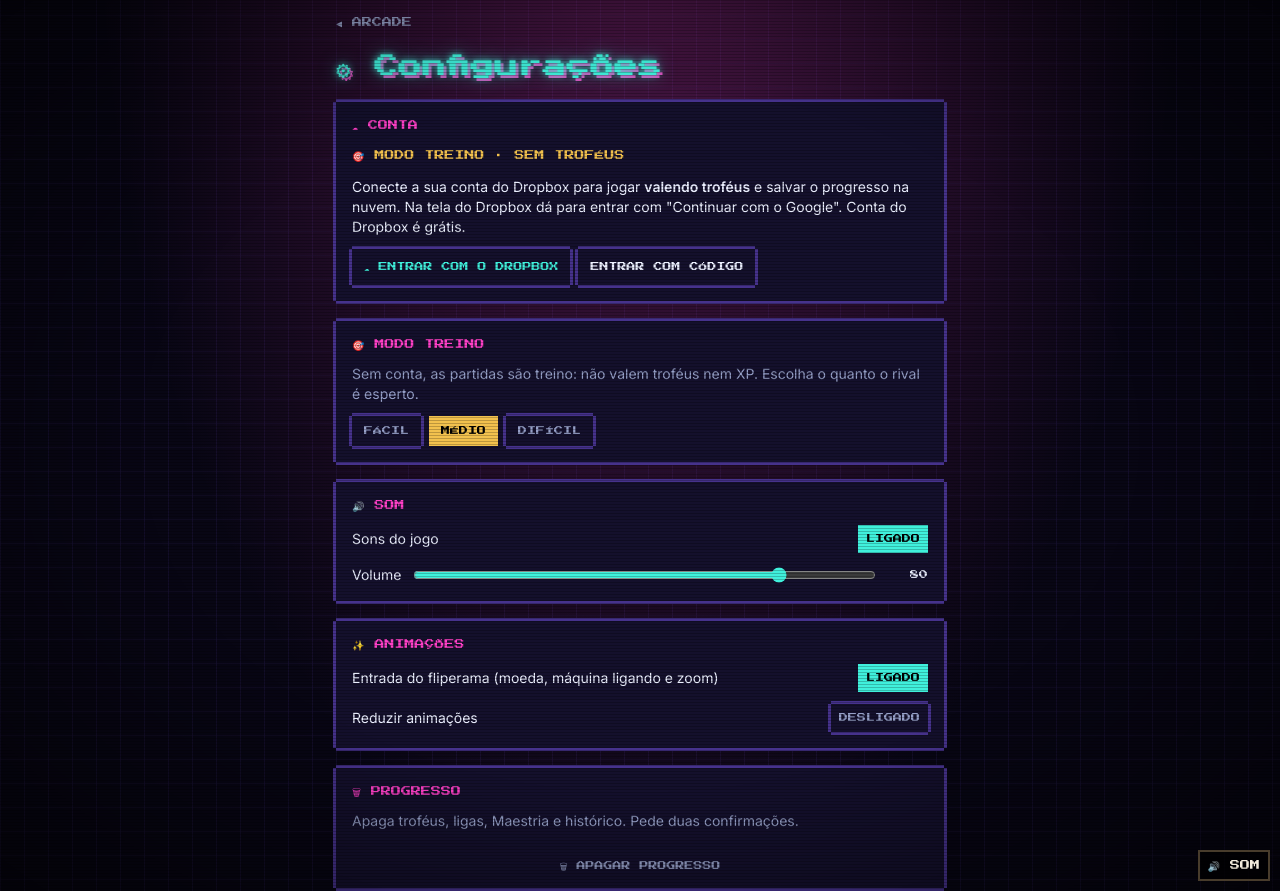
it: apagar progresso › pede duas confirmações e só apaga depois de digitar APAGAR
This screenshot has width=1280, height=891.
Click the button "🗑 APAGAR PROGRESSO" at (640, 865), box [559,858,720,872]
(page scrolled)
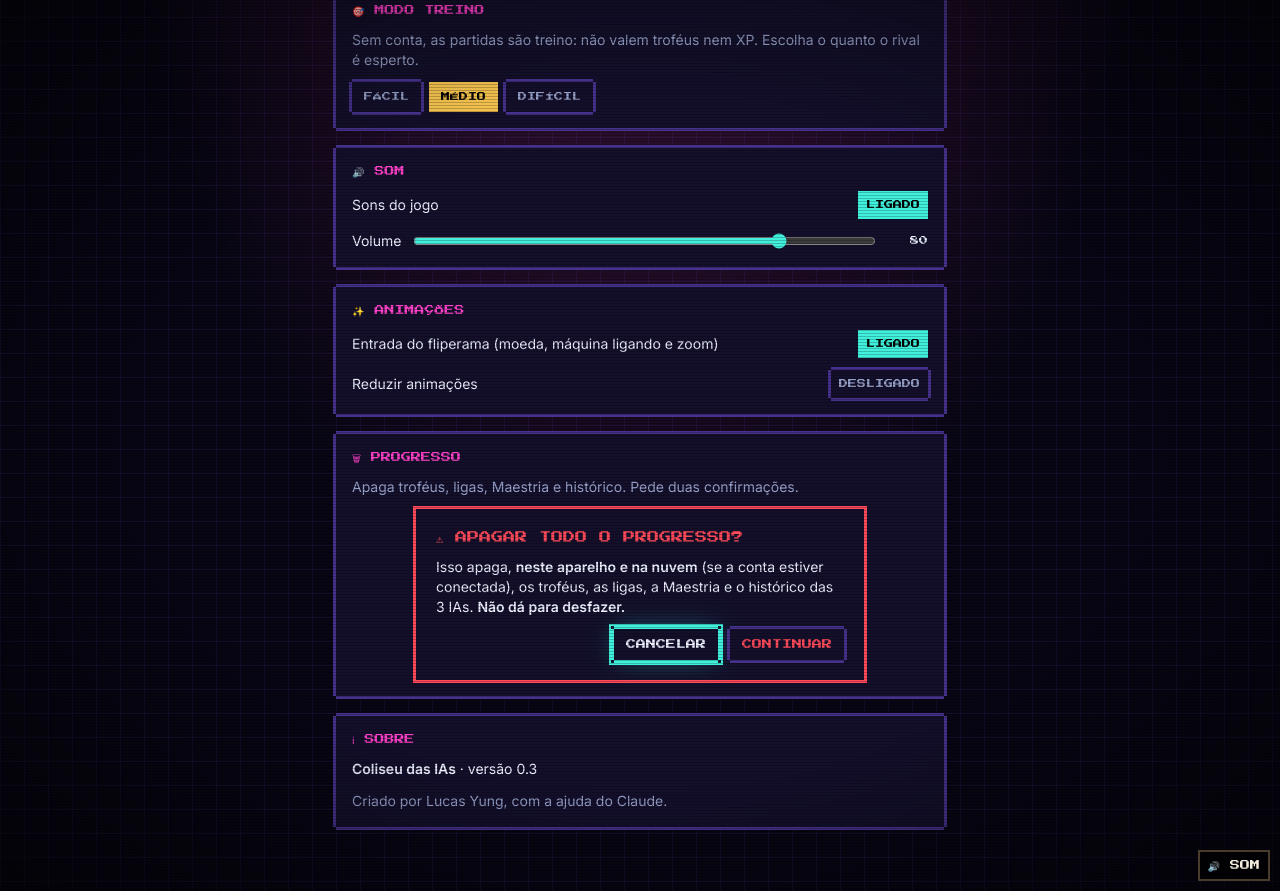
Click the button "CONTINUAR" at (787, 644), box [730,628,844,660]
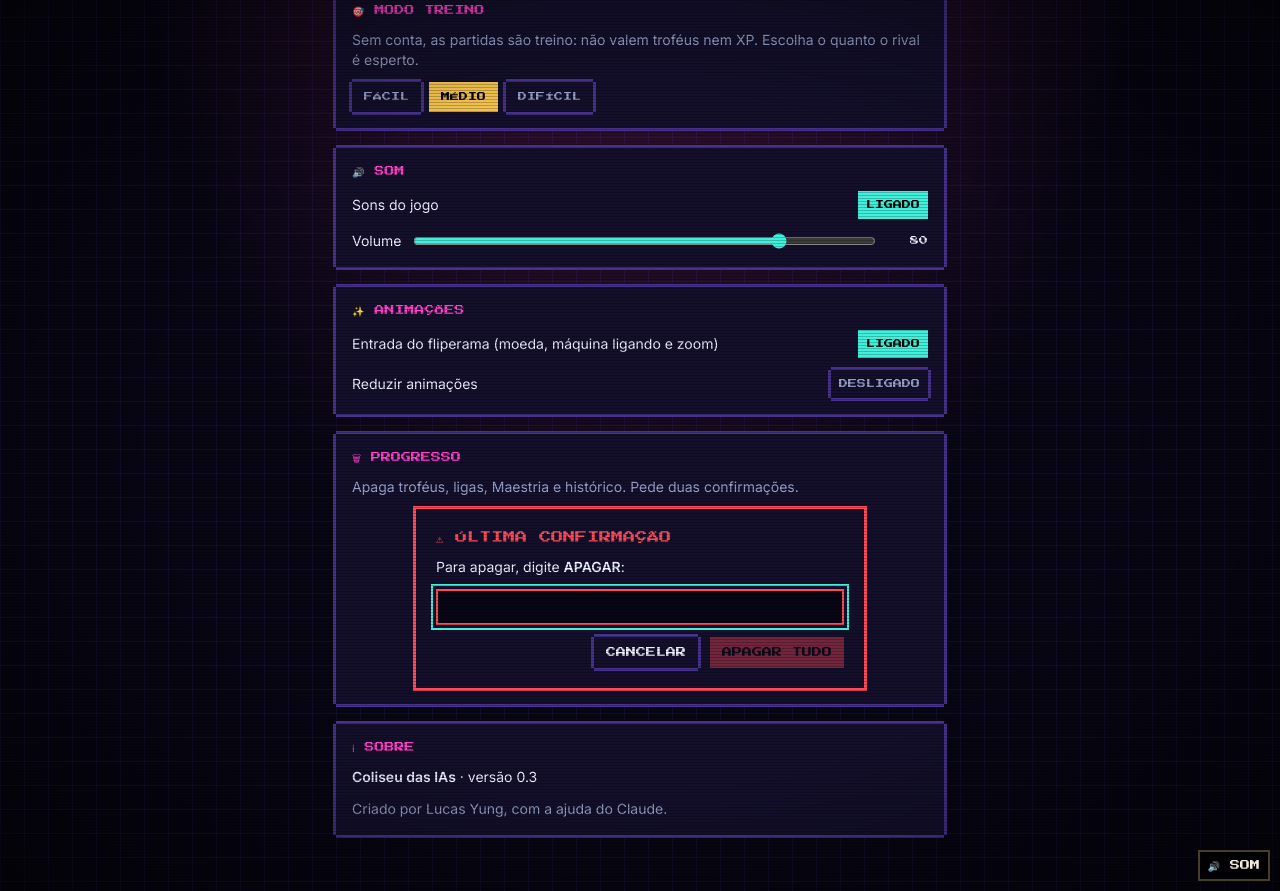
Expected: the button "APAGAR TUDO" is disabled, [710,636,844,668]
Type "apagar" into the field labelled "Para apagar, digite APAGAR:" at (640, 606), box [436,588,844,624]
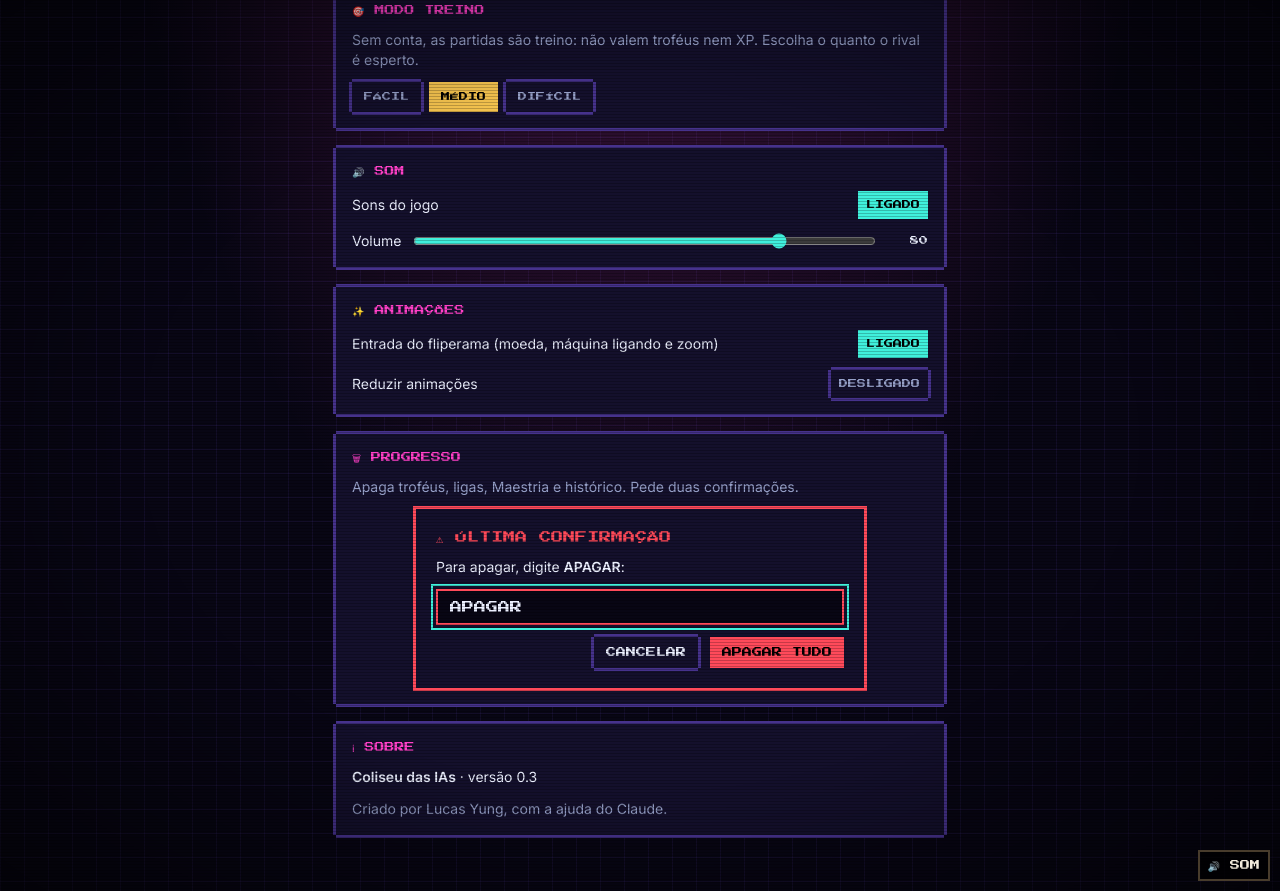
Click the button "APAGAR TUDO" at (777, 652), box [710,636,844,668]
(page scrolled)
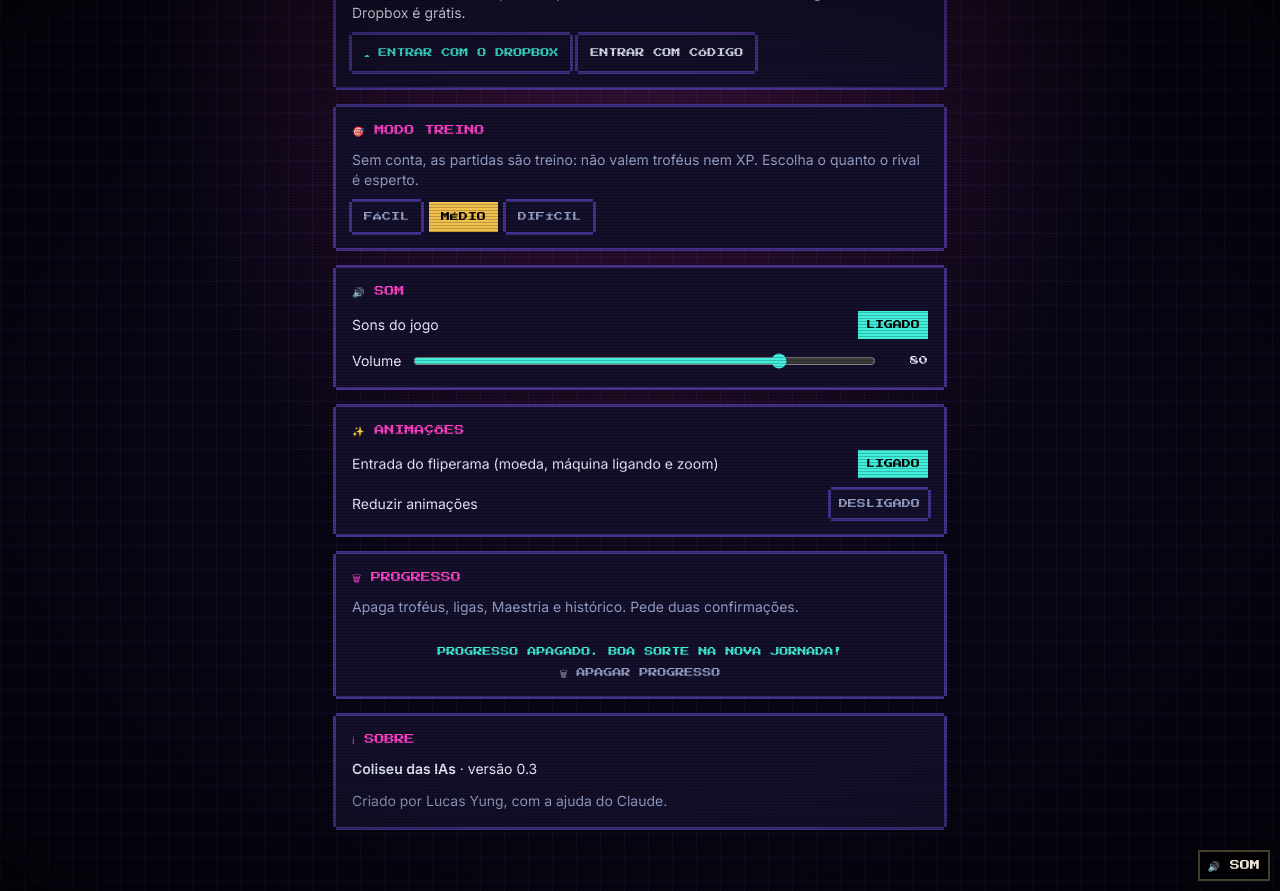
Expected: the text "PROGRESSO APAGADO. BOA SORTE NA NOVA JORNADA!" is shown, [438,644,842,658]
